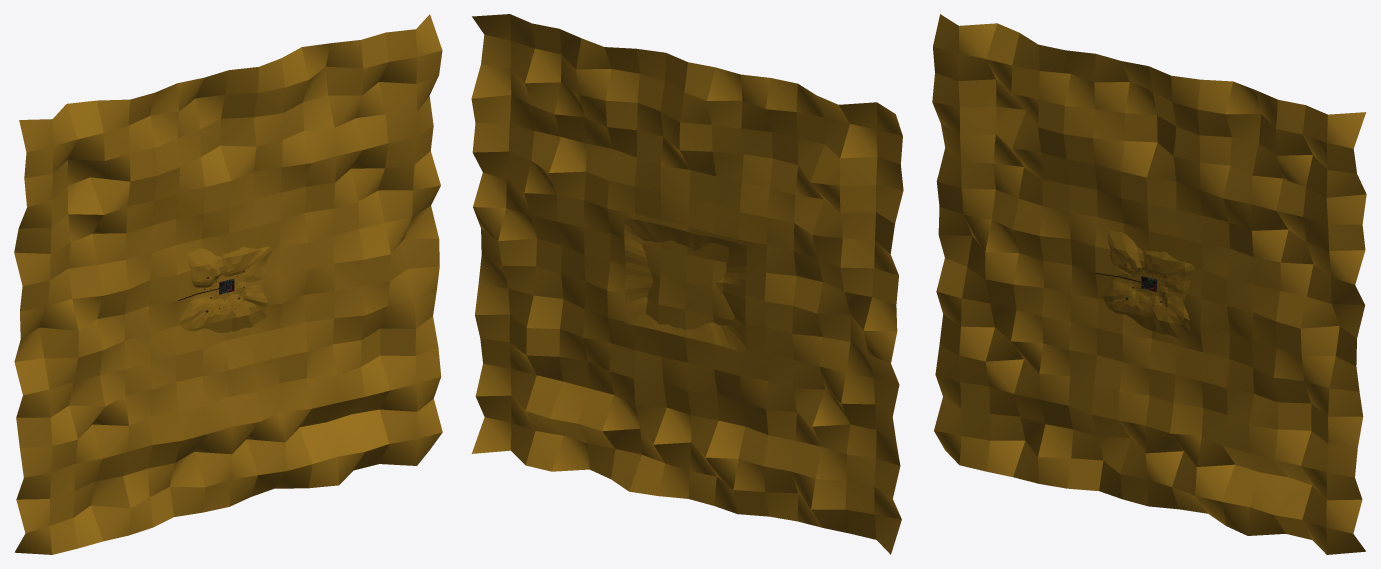
The model's file is MAPAFINAL.obj.
3 views of the same model, side by side, from view 1: azimuth 30°, elevation 25°; view 2: azimuth 150°, elevation 25°; view 3: azimuth 330°, elevation 25° (orthographic).
Visible parts, largest first — view 1: Plane, Plane.003; view 2: Plane, Plane.003; view 3: Plane, Plane.003.
Part boxes in pixels (left/top/right/bottom): Plane: left=14, top=14, right=442, bottom=554; Plane.003: left=178, top=246, right=271, bottom=332; Plane: left=471, top=14, right=903, bottom=554; Plane.003: left=624, top=217, right=746, bottom=352; Plane: left=932, top=14, right=1366, bottom=554; Plane.003: left=1102, top=230, right=1194, bottom=338.
Size of the model in its own units: 1062 by 1062 by 67.71.
